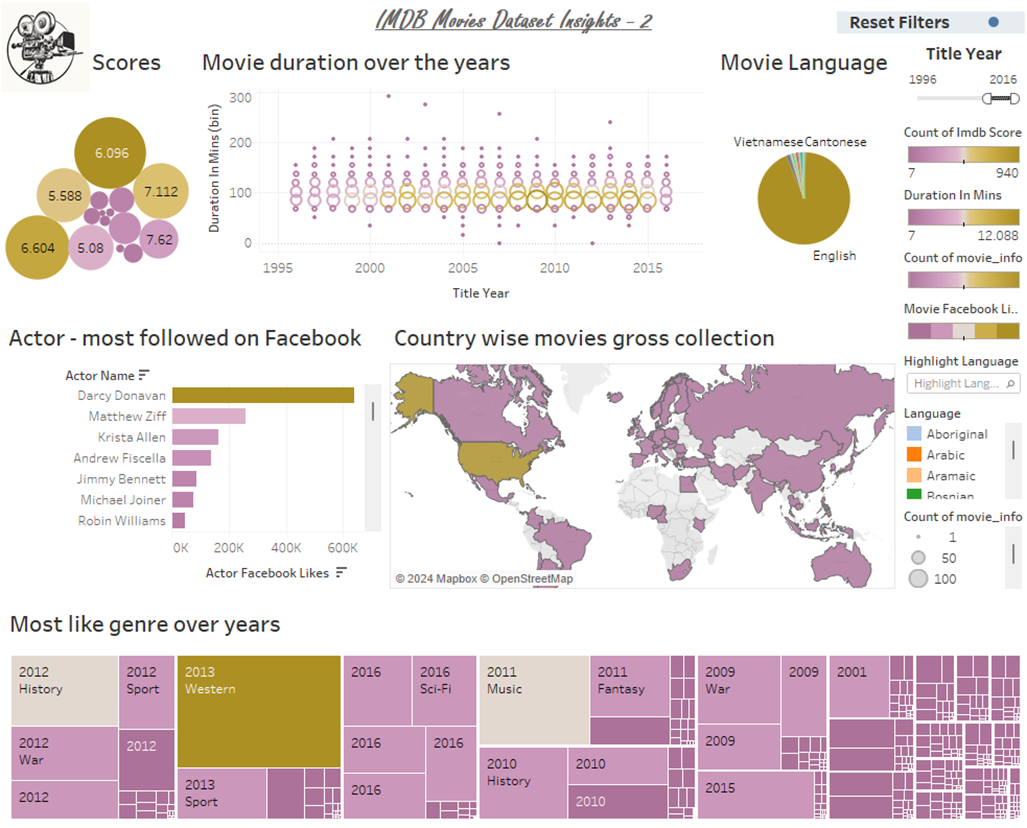

This screenshot's page, from the dashboard's own definition file:
{"tool":"tableau","page":{"name":"IMDB_Dashboard_2","canvas":[1000,800],"ordinal":1},"visuals":[{"type":"image","param":"C:/Users/kunal/OneDrive/Desktop/Camera.png","box":[7,5,90,88]},{"type":"text","box":[8,8,984,32]},{"type":"worksheet","title":"Reset","mark":"Circle","rows":["Calculation_1061442147252633600"],"box":[803,14,176,22]},{"type":"worksheet","title":"IMDB_Score","mark":"Circle","box":[8,40,184.5,264]},{"type":"worksheet","title":"Movie_Durations","mark":"Automatic","rows":["Duration In Mins (bin)"],"cols":["title_year"],"box":[192.5,40,492,264]},{"type":"worksheet","title":"Movie_Languages","mark":"Pie","box":[684.5,40,184.5,264]},{"type":"filter","title":"Movie_Durations","param":"[federated.1h2nngk11xm7ej1aov2dz1e3h9nu].[none:title_year:qk]","box":[869,40,123,78]},{"type":"legend","title":"IMDB_Score","param":"[federated.1h2nngk11xm7ej1aov2dz1e3h9nu].[cnt:imdb_score:qk]","box":[869,118,123,60]},{"type":"legend","title":"Movie_Durations","param":"[federated.1h2nngk11xm7ej1aov2dz1e3h9nu].[sum:duration_in_mins:qk]","box":[869,178,123,60]},{"type":"legend","title":"Movie_Countries","param":"[federated.1h2nngk11xm7ej1aov2dz1e3h9nu].[__tableau_internal_object_id__].[cnt:m","box":[869,238,123,49]},{"type":"legend","title":"Movie_Genre","param":"[federated.00d98nj0y6ja1o1474tgy1xipyrx].[sum:movie_facebook_likes:qk]","box":[869,287,123,50]},{"type":"worksheet","title":"Actor_Following","mark":"Bar","rows":["actor_name"],"cols":["actor_facebook_likes"],"box":[8,304,369,267.8]},{"type":"worksheet","title":"Movie_Countries","mark":"Automatic","box":[377,304,492,267.8]},{"type":"highlighter","title":"Movie_Languages","param":"[federated.1h2nngk11xm7ej1aov2dz1e3h9nu].[none:language:nk]","box":[869,337,123,50]},{"type":"legend","title":"Movie_Languages","param":"[federated.1h2nngk11xm7ej1aov2dz1e3h9nu].[none:language:nk]","box":[869,387,123,99]},{"type":"legend","title":"Movie_Durations","param":"[federated.1h2nngk11xm7ej1aov2dz1e3h9nu].[__tableau_internal_object_id__].[cnt:m","box":[869,486,123,85.8]},{"type":"worksheet","title":"Movie_Genre","mark":"Automatic","box":[8,571.8,984,220.2]}]}

Visuals, with their boxes in screenshot pixels (x1, y1, x2, y2), scaled from the page's 1000x800 canvas onto the 1027x828 screenshot:
image: bbox(7, 5, 100, 96)
text: bbox(8, 8, 1019, 41)
"Reset" worksheet (Circle marks): bbox(825, 14, 1005, 37)
"IMDB_Score" worksheet (Circle marks): bbox(8, 41, 198, 315)
"Movie_Durations" worksheet: bbox(198, 41, 703, 315)
"Movie_Languages" worksheet (Pie marks): bbox(703, 41, 892, 315)
"Movie_Durations" filter: bbox(892, 41, 1019, 122)
"IMDB_Score" legend: bbox(892, 122, 1019, 184)
"Movie_Durations" legend: bbox(892, 184, 1019, 246)
"Movie_Countries" legend: bbox(892, 246, 1019, 297)
"Movie_Genre" legend: bbox(892, 297, 1019, 349)
"Actor_Following" worksheet (Bar marks): bbox(8, 315, 387, 592)
"Movie_Countries" worksheet: bbox(387, 315, 892, 592)
"Movie_Languages" highlighter: bbox(892, 349, 1019, 401)
"Movie_Languages" legend: bbox(892, 401, 1019, 503)
"Movie_Durations" legend: bbox(892, 503, 1019, 592)
"Movie_Genre" worksheet: bbox(8, 592, 1019, 820)
